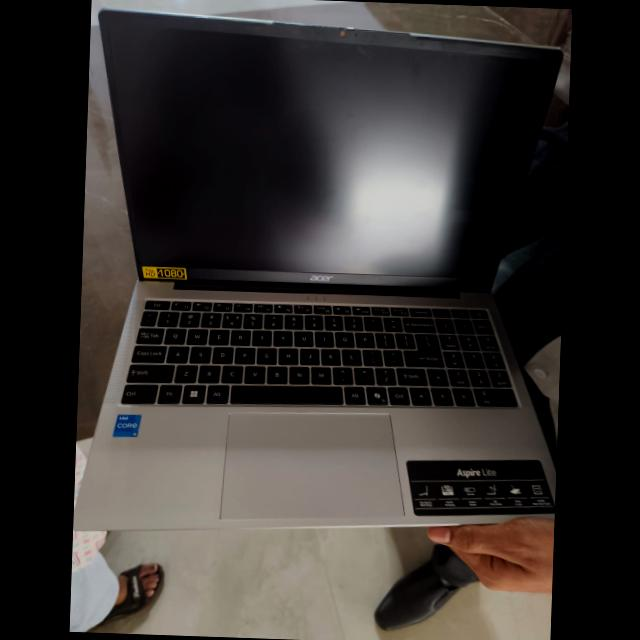laptop: (79, 1, 572, 536)
